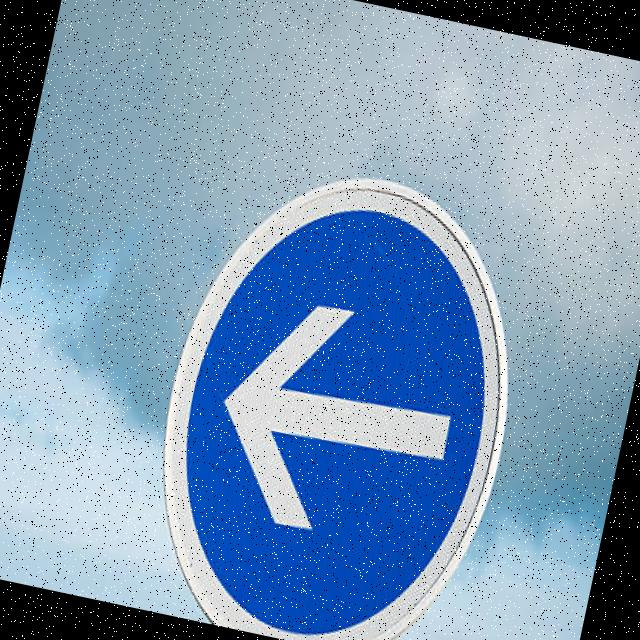compulsory_keep_right: (120, 137, 561, 640)
